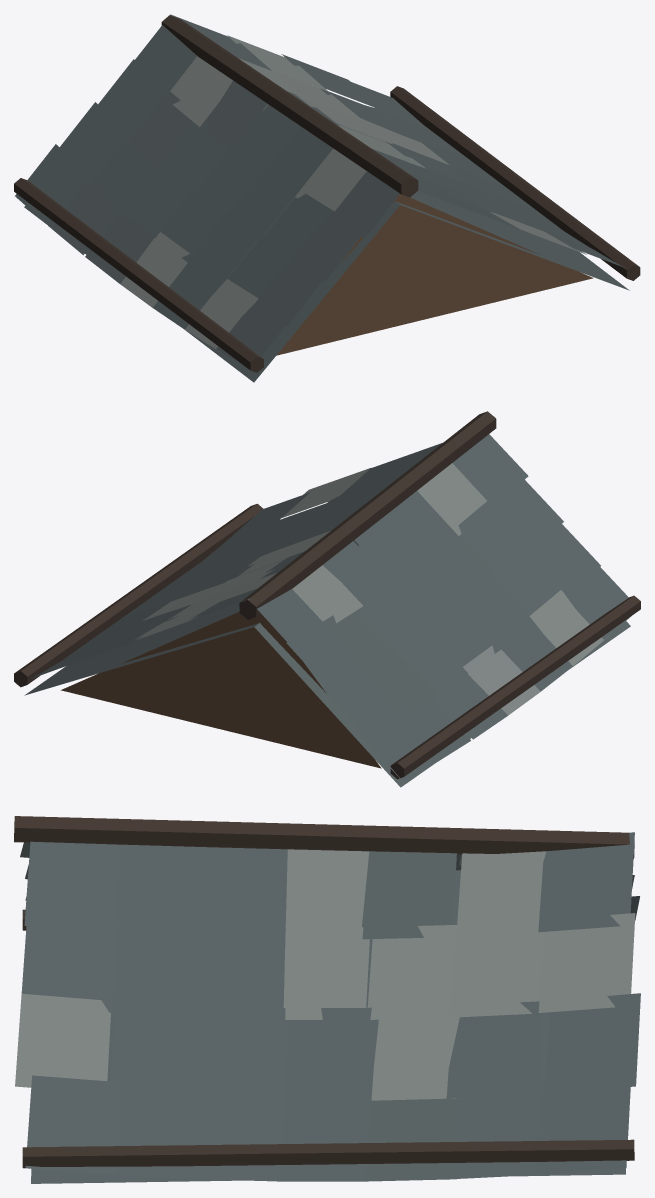
The model's file is roof_slate.glb.
The picture shows the model from 3 angles, top to bottom: view 1: azimuth 30°, elevation 25°; view 2: azimuth 150°, elevation 25°; view 3: azimuth 270°, elevation 25°; orthographic projection. The views are drawn at different scales.
Visible parts, largest first — view 1: weatherboard gable, patched ridge, bowed eave, bowed eave.001, crooked roof underlay.001, crooked roof underlay, uneven overlapping shingles.020, uneven overlapping shingles.013, uneven overlapping shingles.019, uneven overlapping shingles.006, uneven overlapping shingles.012, uneven overlapping shingles.011 (+39 smaller); view 2: weatherboard gable.001, patched ridge, bowed eave, bowed eave.001, crooked roof underlay.001, crooked roof underlay, uneven overlapping shingles.007, uneven overlapping shingles.014, uneven overlapping shingles.016, uneven overlapping shingles.009, uneven overlapping shingles, uneven overlapping shingles.001 (+39 smaller); view 3: patched ridge, bowed eave.001, uneven overlapping shingles.048, uneven overlapping shingles.042, uneven overlapping shingles.041, uneven overlapping shingles.035, uneven overlapping shingles.032, uneven overlapping shingles.043, uneven overlapping shingles.034, uneven overlapping shingles.038, uneven overlapping shingles.040, uneven overlapping shingles.047 (+19 smaller).
Part boxes in pixels (<box>): weatherboard gable: <box>276,194,593,355</box>; patched ridge: <box>161,15,418,197</box>; bowed eave: <box>14,178,263,372</box>; bowed eave.001: <box>390,86,640,280</box>; crooked roof underlay.001: <box>262,91,629,290</box>; crooked roof underlay: <box>24,110,399,382</box>; uneven overlapping shingles.020: <box>59,102,124,185</box>; uneven overlapping shingles.013: <box>97,59,161,141</box>; uneven overlapping shingles.019: <box>95,140,157,214</box>; uneven overlapping shingles.006: <box>132,15,196,97</box>; uneven overlapping shingles.012: <box>125,91,193,167</box>; uneven overlapping shingles.011: <box>164,120,227,194</box>; weatherboard gable.001: <box>61,611,381,768</box>; patched ridge: <box>239,411,496,619</box>; bowed eave: <box>390,595,640,779</box>; bowed eave.001: <box>14,503,263,687</box>; crooked roof underlay.001: <box>24,540,358,695</box>; crooked roof underlay: <box>254,536,630,787</box>; uneven overlapping shingles.007: <box>486,473,563,546</box>; uneven overlapping shingles.014: <box>524,517,600,590</box>; uneven overlapping shingles.016: <box>457,575,527,649</box>; uneven overlapping shingles.009: <box>419,531,496,599</box>; uneven overlapping shingles: <box>453,434,528,500</box>; uneven overlapping shingles.001: <box>417,463,486,535</box>; patched ridge: <box>14,816,634,858</box>; bowed eave.001: <box>22,1139,634,1168</box>; uneven overlapping shingles.048: <box>544,993,640,1093</box>; uneven overlapping shingles.042: <box>15,993,110,1087</box>; uneven overlapping shingles.041: <box>538,913,635,1012</box>; uneven overlapping shingles.035: <box>21,913,115,1012</box>; uneven overlapping shingles.032: <box>362,851,456,939</box>; uneven overlapping shingles.043: <box>110,1001,204,1086</box>; uneven overlapping shingles.034: <box>538,832,634,932</box>; uneven overlapping shingles.038: <box>283,927,369,1019</box>; uneven overlapping shingles.040: <box>448,932,544,1017</box>; uneven overlapping shingles.047: <box>446,1001,542,1098</box>.
Size of the model in its own units: 1.41 by 0.6 by 1.52.
